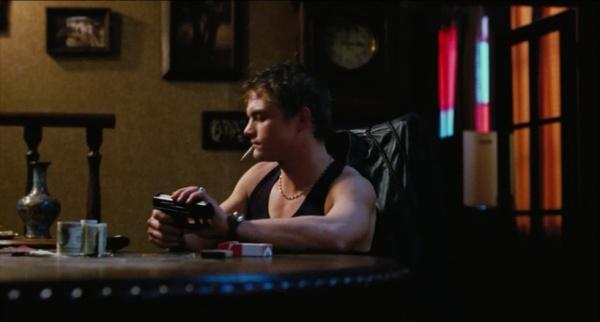Gun: (151, 191, 211, 228)
